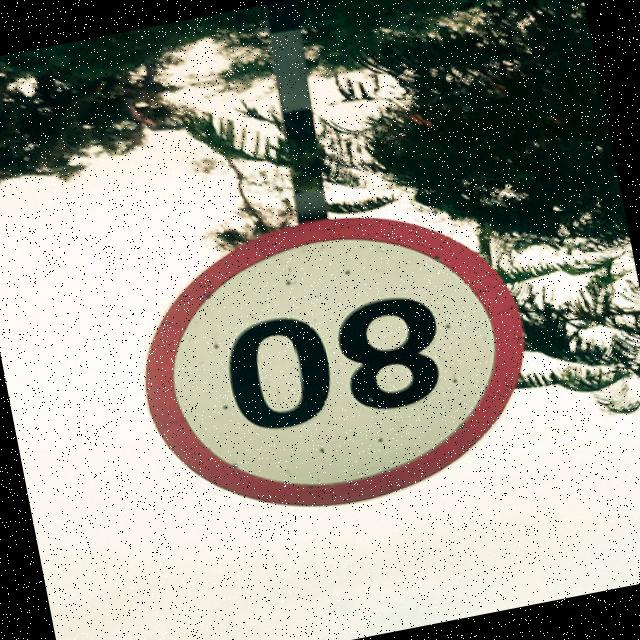speed_limit_80: (110, 178, 569, 556)
